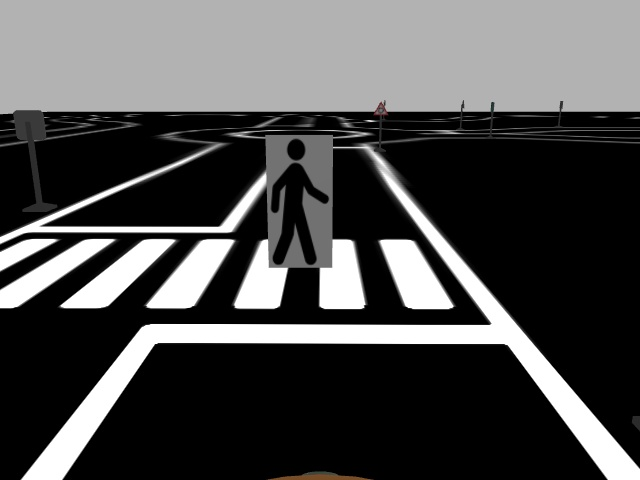pedestrian: (262, 131, 334, 270)
